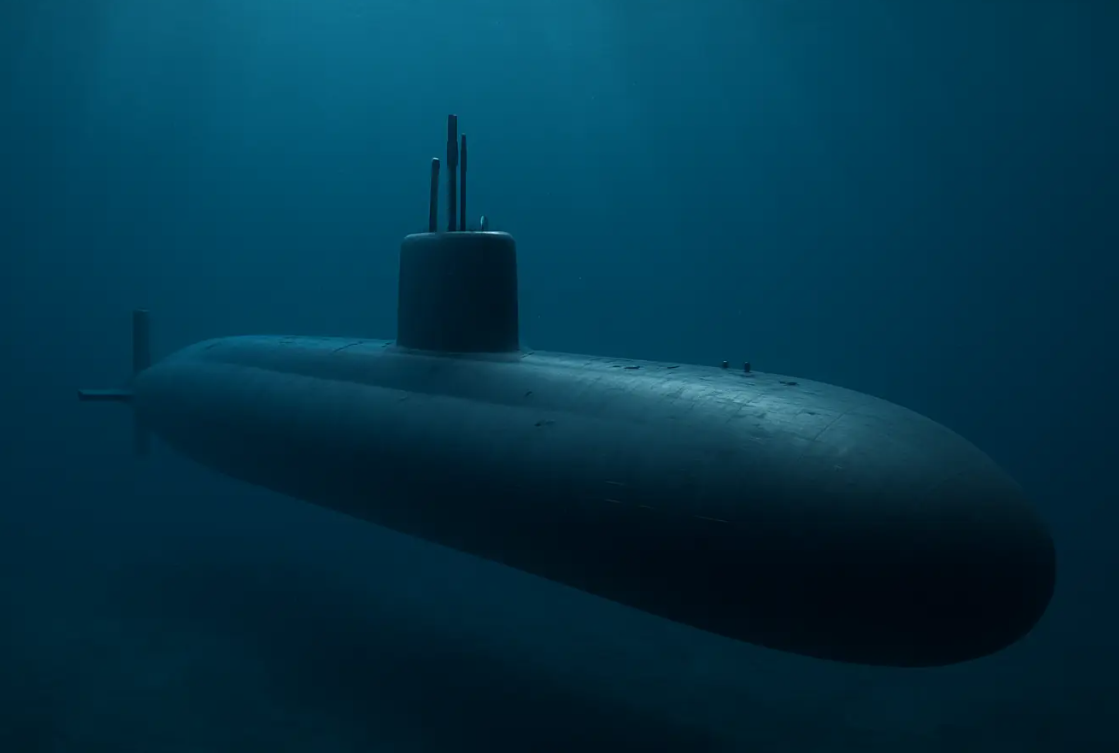submarine: (86, 111, 1059, 691)
